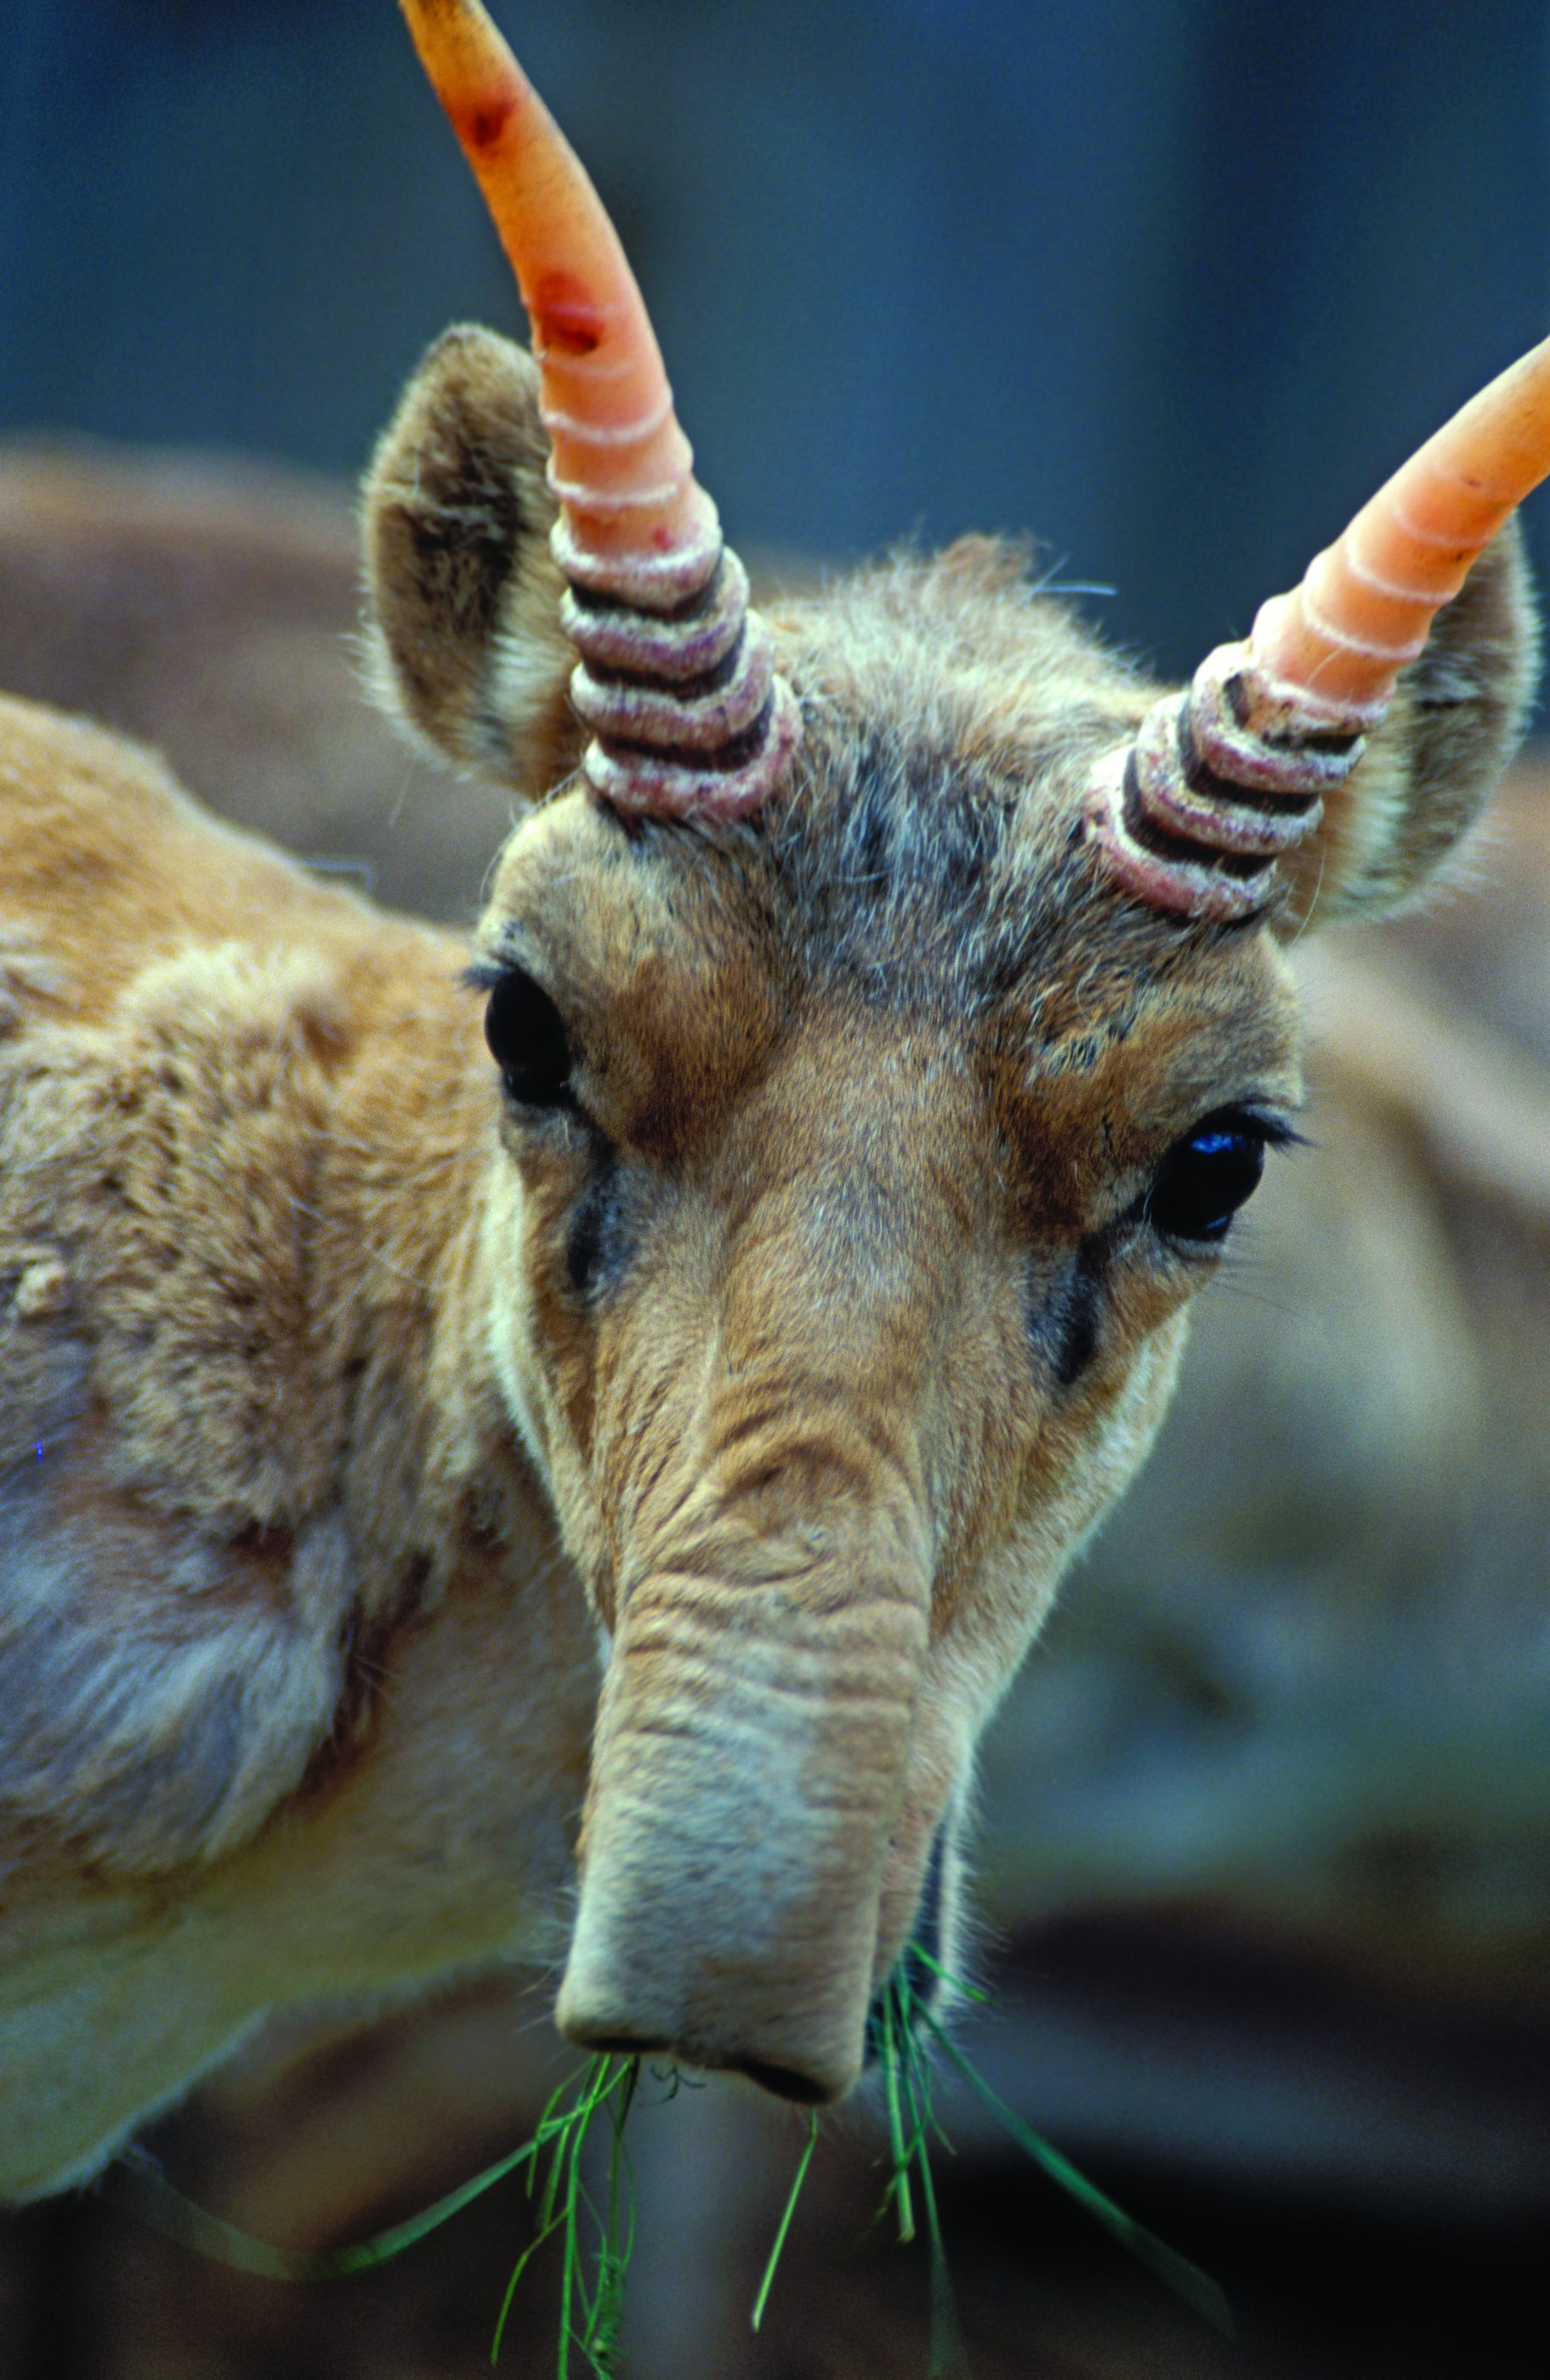saiga: (3, 5, 1550, 2213)
